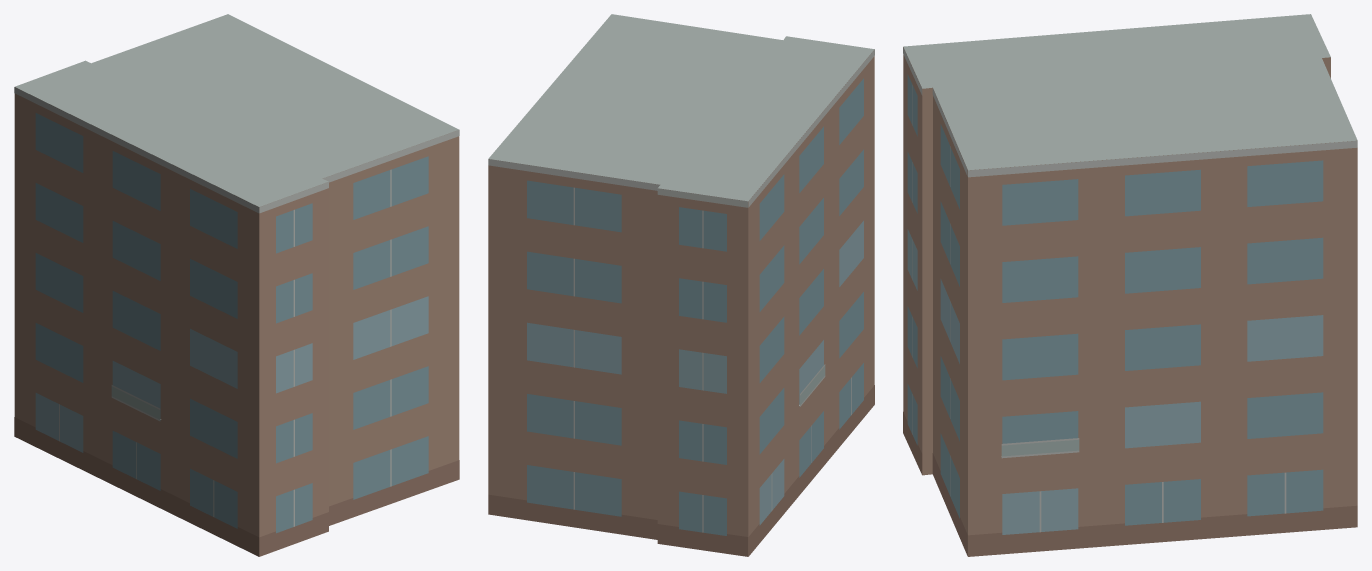
The model's file is survey-upis-32890607.glb.
The picture shows the model from 3 angles, left to right: view 1: azimuth 30°, elevation 25°; view 2: azimuth 150°, elevation 25°; view 3: azimuth 270°, elevation 25°; orthographic projection. The views are drawn at different scales.
Visible parts, largest first — view 1: survey-upis-32890607.tmp; view 2: survey-upis-32890607.tmp; view 3: survey-upis-32890607.tmp.
Boxes of the visible parts, box(x1,y1,x2,y2) form: survey-upis-32890607.tmp: box(14, 14, 459, 556); survey-upis-32890607.tmp: box(488, 14, 874, 556); survey-upis-32890607.tmp: box(903, 14, 1357, 556).
Size of the model in its own units: 11.54 by 13.3 by 14.18.
